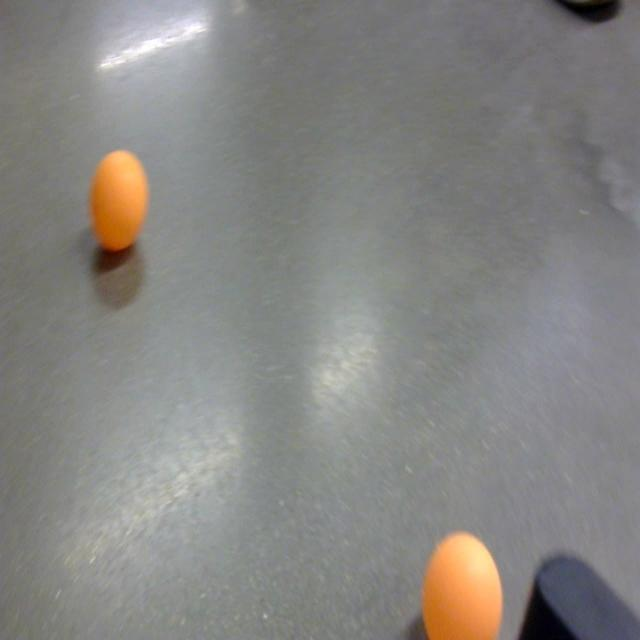ball: (420, 527, 504, 640), (87, 144, 150, 261)
